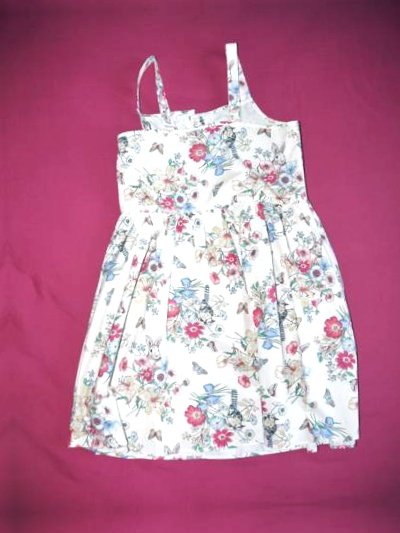Dress: (52, 60, 387, 478)
